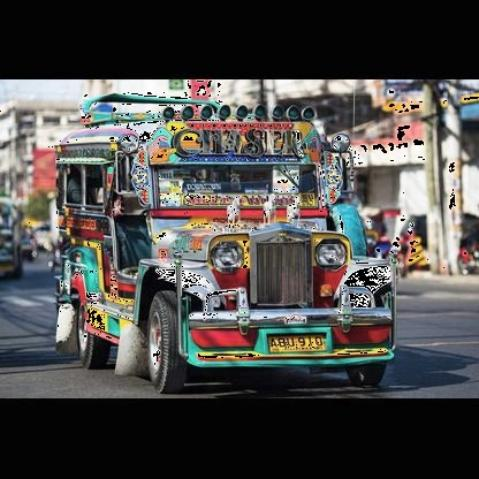jeepney: (37, 107, 402, 396)
